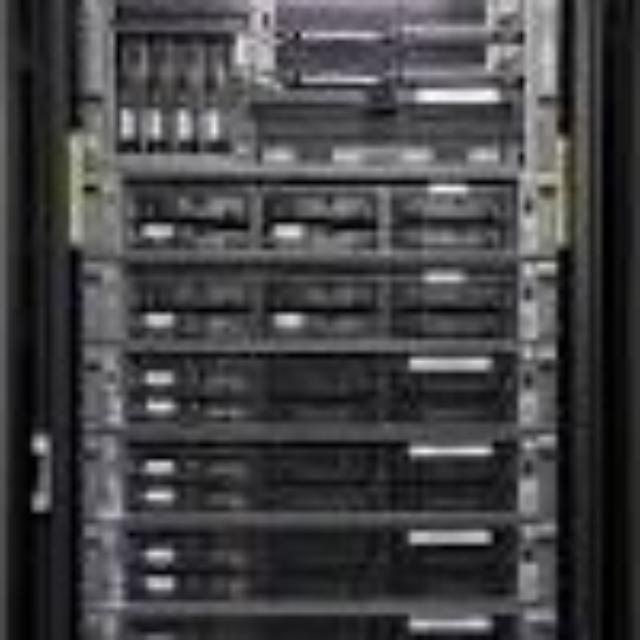Server: (56, 0, 586, 640)
